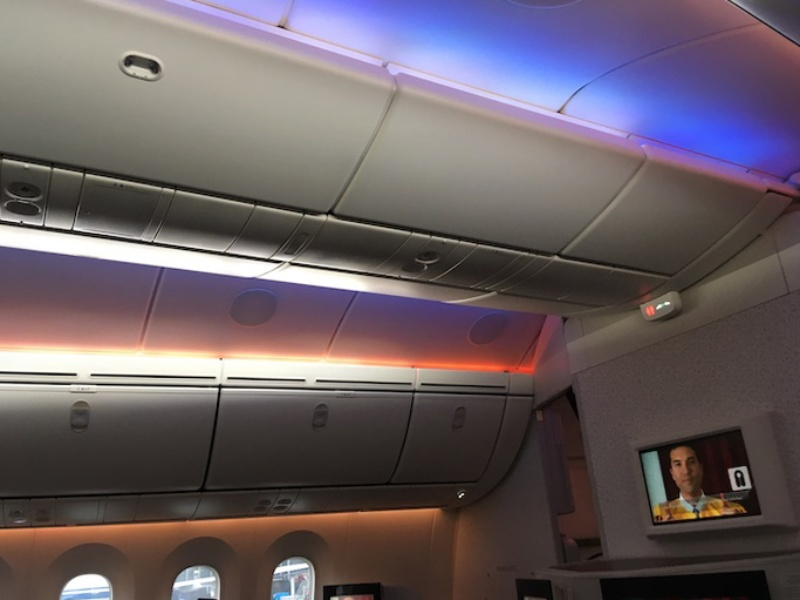close_bin: (1, 1, 364, 258), (322, 88, 644, 238), (547, 162, 768, 275), (2, 393, 224, 502), (207, 399, 421, 497), (410, 392, 502, 487)
